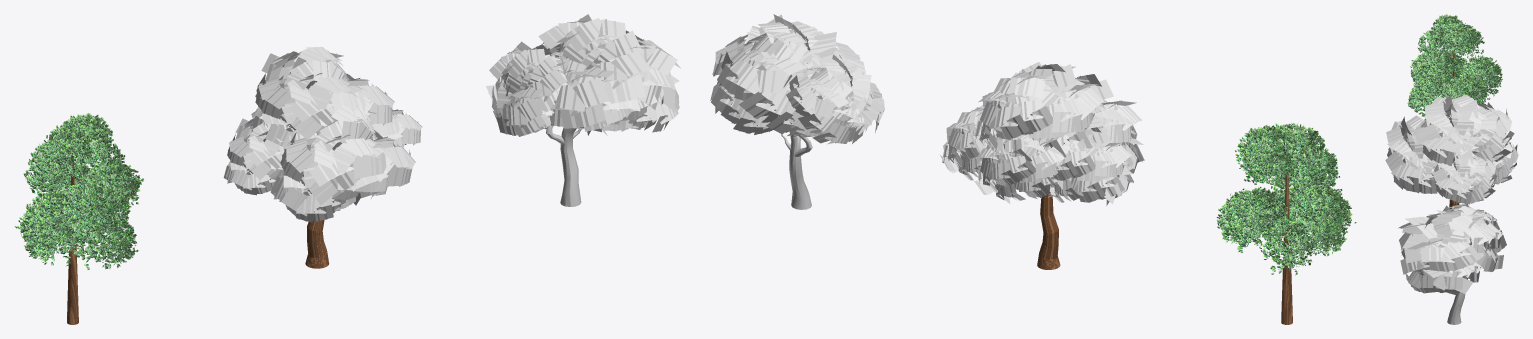
Rendered from Pohon3.fbx.
3 renders of one model, left to right at view 1: azimuth 30°, elevation 25°; view 2: azimuth 150°, elevation 25°; view 3: azimuth 270°, elevation 25°, orthographic. The views are drawn at different scales.
Visible parts, largest first — view 1: Daun.005, Daun pohon2, daun2.002, daun2, Pohon1, Daun.001, Pohon2, Pohon3; view 2: Daun.005, Daun pohon2, daun2.002, daun2, Daun.001, Pohon1, Pohon2, Pohon3; view 3: Daun.005, daun2.002, Daun pohon2, Daun.001, daun2, Pohon1.
Part boxes in pixels (<box>): Daun.005: <box>223,47,415,222</box>; Daun pohon2: <box>14,113,143,270</box>; daun2.002: <box>538,14,680,135</box>; daun2: <box>486,41,585,136</box>; Pohon1: <box>546,125,583,206</box>; Daun.001: <box>371,92,422,147</box>; Pohon2: <box>305,219,329,268</box>; Pohon3: <box>67,149,78,324</box>; Daun.005: <box>969,62,1144,205</box>; Daun pohon2: <box>1216,123,1356,275</box>; daun2.002: <box>710,14,865,135</box>; daun2: <box>783,52,885,144</box>; Daun.001: <box>940,105,996,180</box>; Pohon1: <box>781,132,812,209</box>; Pohon2: <box>1037,194,1060,269</box>; Pohon3: <box>1281,137,1292,324</box>; Daun.005: <box>1385,94,1518,193</box>; daun2.002: <box>1398,210,1506,295</box>; Daun pohon2: <box>1407,14,1502,116</box>; Daun.001: <box>1432,149,1497,204</box>; daun2: <box>1426,204,1499,243</box>; Pohon1: <box>1447,237,1471,324</box>.
Bounding box in the file's own units: 1400 × 366 × 429.
